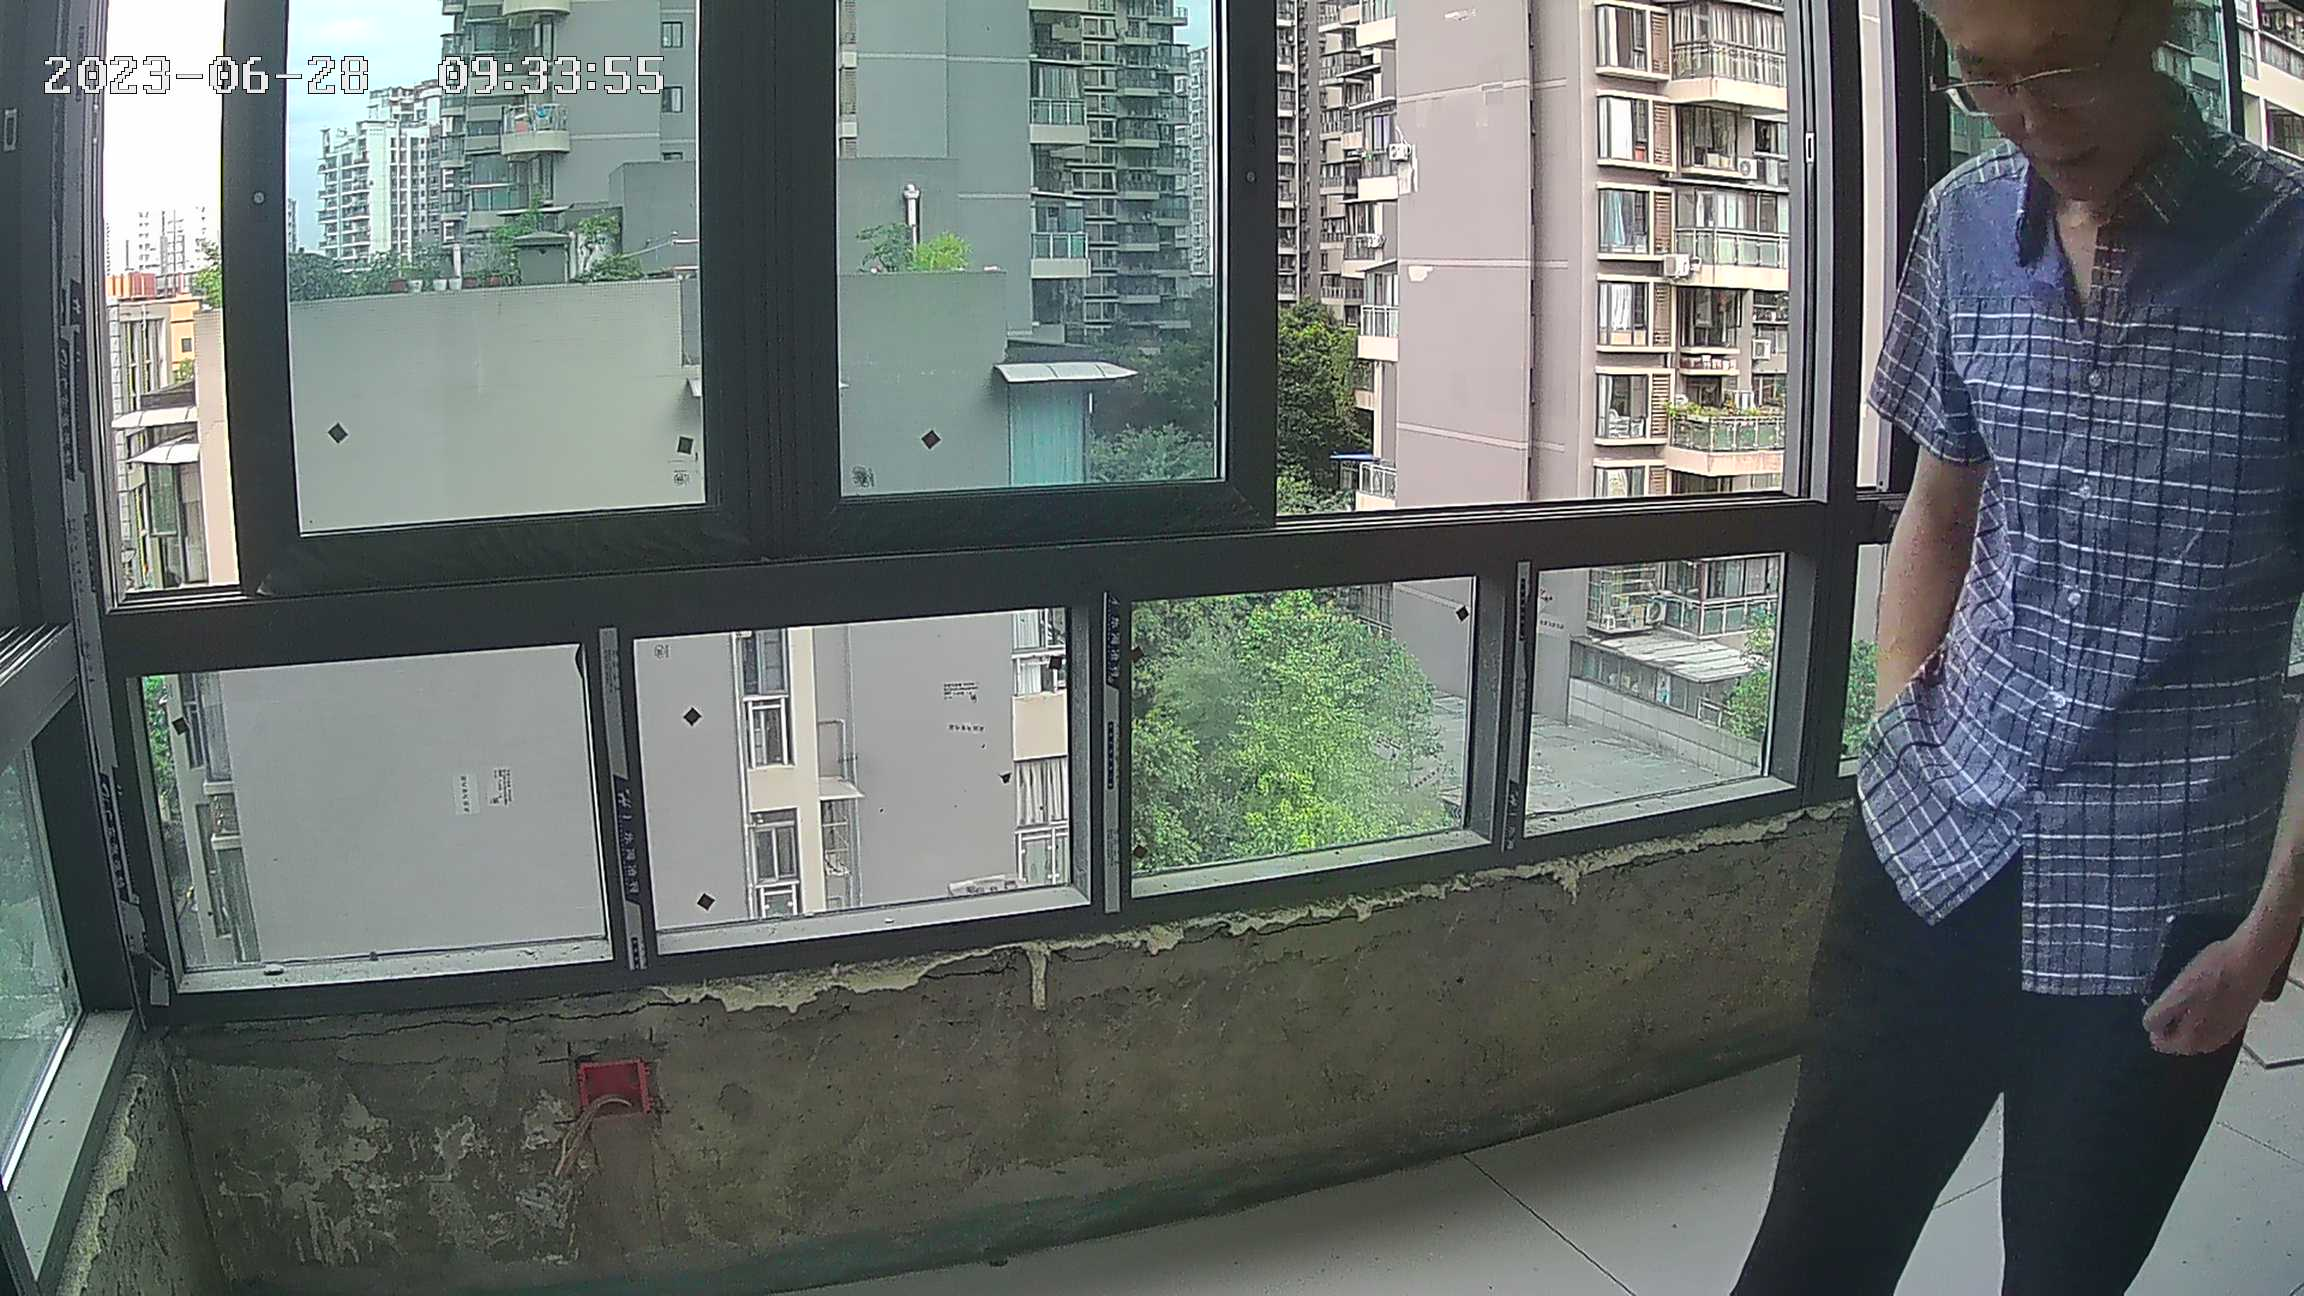people: (1822, 2, 2304, 1259)
window: (83, 5, 1874, 921)
